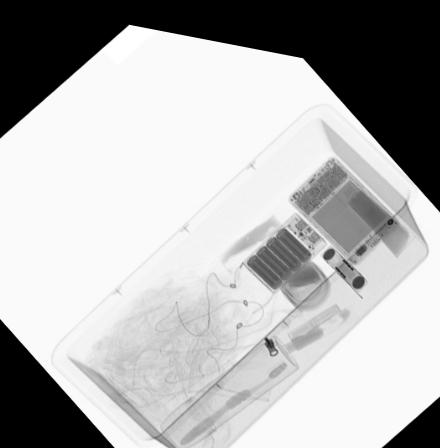Powerbank: (239, 200, 330, 285)
